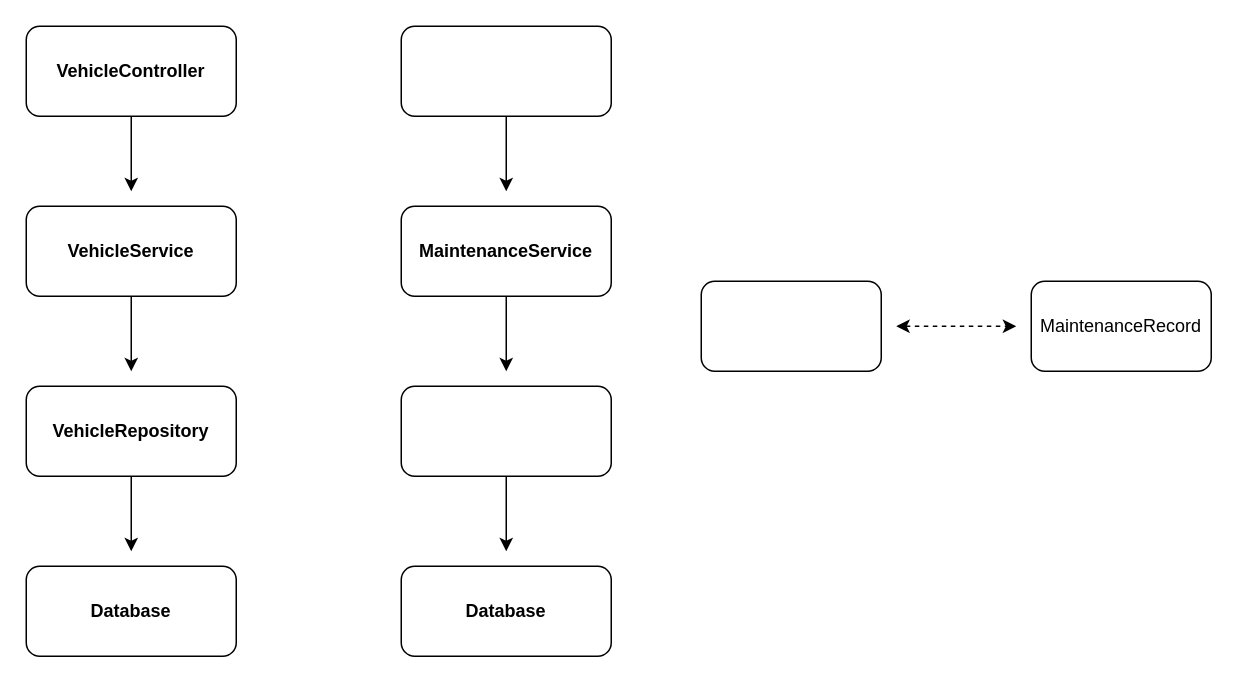
Image size: 1238x683. Some labels were removed from this diagram. Each missing label, with the box of its shape:
MaintenanceController: (400, 25, 611, 116)
MaintenanceRepository: (400, 385, 611, 476)
Vehicle: (700, 280, 881, 371)
